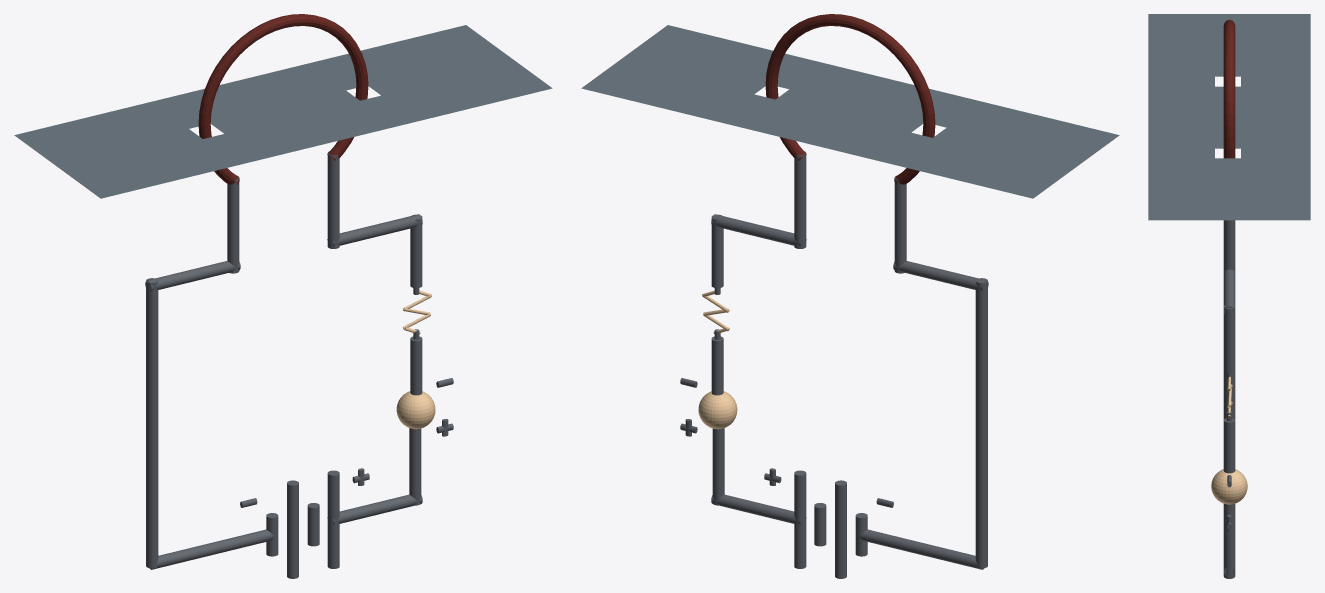
The model's file is magnetic field produced by a conductor loop .gltf.
3 views of the same model, side by side, from view 1: azimuth 30°, elevation 25°; view 2: azimuth 150°, elevation 25°; view 3: azimuth 270°, elevation 25° (orthographic). The views are drawn at different scales.
Visible parts, largest first — view 1: Cylinder.011; view 2: Cylinder.011; view 3: Cylinder.011.
Part boxes in pixels (x1=…): Cylinder.011: x1=14, y1=14, x2=552, y2=578; Cylinder.011: x1=581, y1=14, x2=1119, y2=578; Cylinder.011: x1=1148, y1=14, x2=1310, y2=578.
Bounding box in the file's own units: 6.02 × 7.15 × 2.
